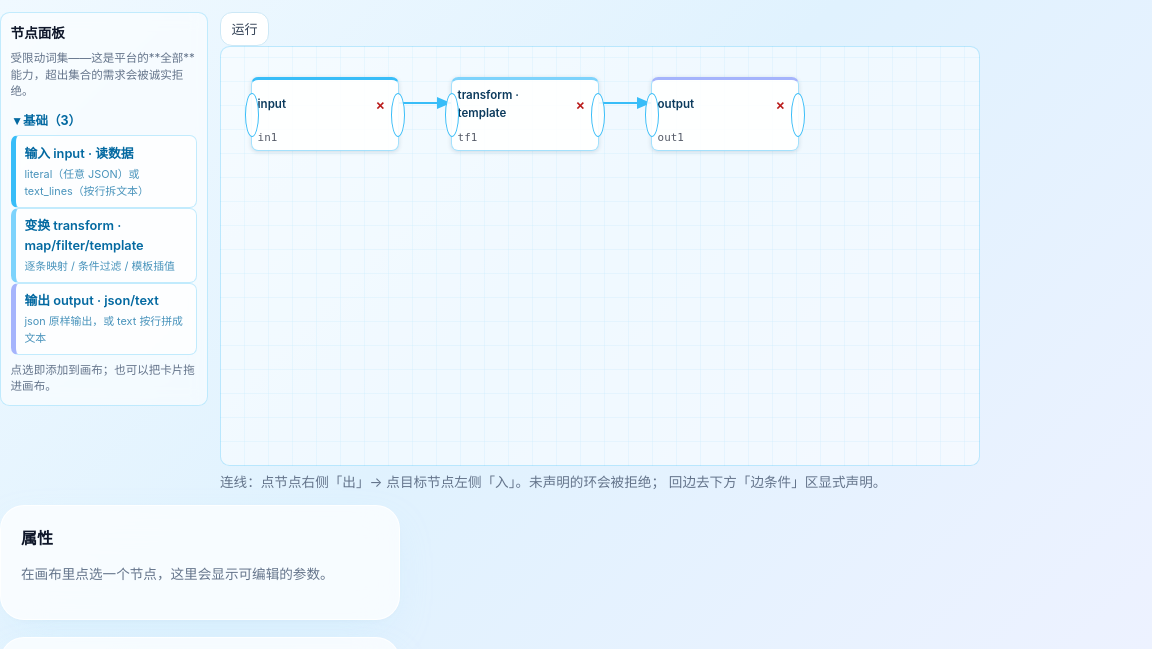
Test: FlowEditor 组件 · 画布交互 › 连成环时立刻在顶部报错并拒绝该边，不静默接受
The width and height of the screenshot is (1152, 649).
Expected: the element with test id "flow-node-in1" is shown, [251, 77, 399, 151]
// 已有 in1→tf1→out1；试连out1→in1 必然成环
Click the button with test id "flow-out-out1" at (798, 115), box [791, 93, 805, 137]
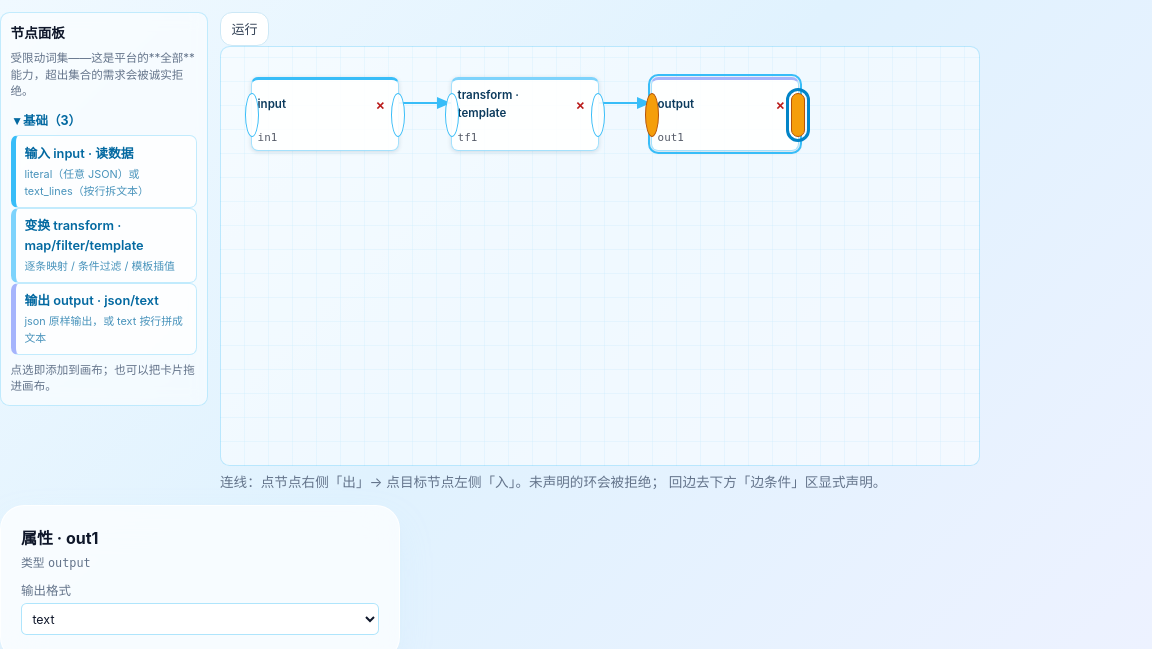
Click the button with test id "flow-in-in1" at (252, 115), box [245, 93, 259, 137]
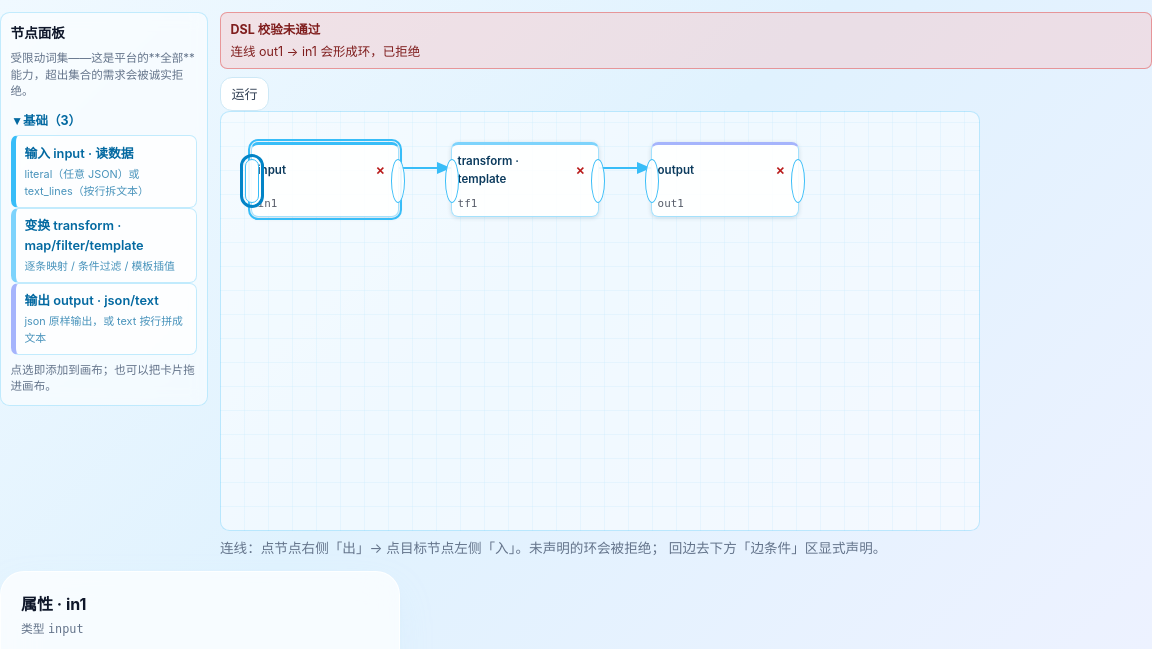
Now the message with test id "flow-error" shows "会形成环", box [231, 44, 420, 59]
